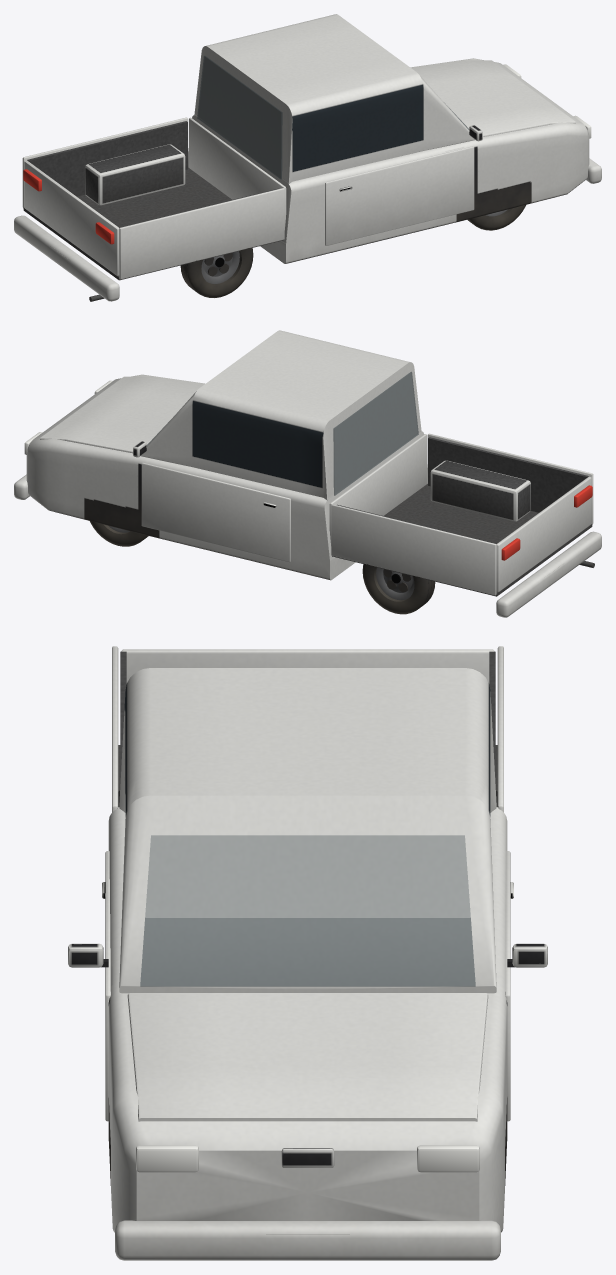
Rendered from picape-cabine-simples.glb.
3 renders of one model, top to bottom at view 1: azimuth 30°, elevation 25°; view 2: azimuth 150°, elevation 25°; view 3: azimuth 270°, elevation 25°, orthographic. The views are drawn at different scales.
Visible parts, largest first — view 1: body, door_fr, hood, glass_rear, trunk, bumper_rear, wheel_rr_tire, wheel_rr_rim, wheel_fr_tire; view 2: body, door_fl, hood, glass_rear, trunk, bumper_rear, wheel_rl_tire, wheel_rl_rim, wheel_fl_tire; view 3: body, glass_windshield, hood, bumper_front, trunk, headlight_left, headlight_right, door_fl, door_fr.
Boxes of the visible parts, box(x1,y1,x2,y2) form: body: box(22, 14, 589, 301); door_fr: box(325, 146, 474, 245); hood: box(411, 60, 575, 136); glass_rear: box(197, 55, 282, 179); trunk: box(24, 160, 119, 275); bumper_rear: box(14, 215, 119, 301); wheel_rr_tire: box(180, 247, 253, 297); wheel_rr_rim: box(201, 251, 241, 285); wheel_fr_tire: box(467, 205, 525, 230); body: box(26, 330, 594, 596); door_fl: box(141, 462, 290, 562); hood: box(40, 376, 204, 453); glass_rear: box(333, 372, 418, 495); trunk: box(496, 477, 591, 591); bumper_rear: box(496, 531, 601, 617); wheel_rl_tire: box(362, 563, 435, 614); wheel_rl_rim: box(374, 567, 414, 601); wheel_fl_tire: box(90, 521, 148, 546); body: box(68, 646, 547, 1234); glass_windshield: box(140, 835, 475, 986); hood: box(127, 993, 488, 1121); bumper_front: box(115, 1220, 500, 1260); trunk: box(121, 649, 494, 683); headlight_left: box(417, 1145, 479, 1172); headlight_right: box(136, 1145, 198, 1172); door_fl: box(505, 851, 513, 1121); door_fr: box(102, 851, 110, 1121).
Size of what is drawn, in the model's own units: 5.49 by 1.78 by 2.29.
Materials: 6 (5 with a texture image).
